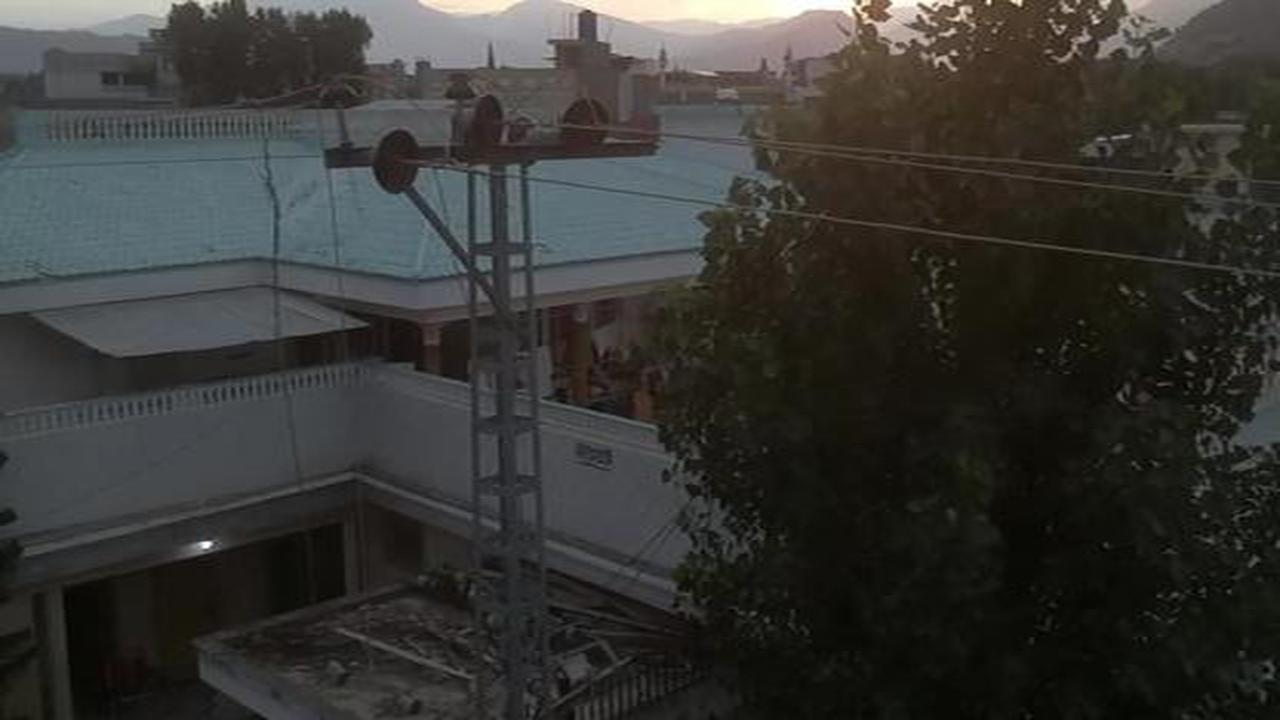insulator_disc: (368, 126, 423, 195), (560, 100, 608, 151), (468, 96, 506, 151)
insulator_pin: (319, 70, 358, 109), (446, 73, 477, 104)
